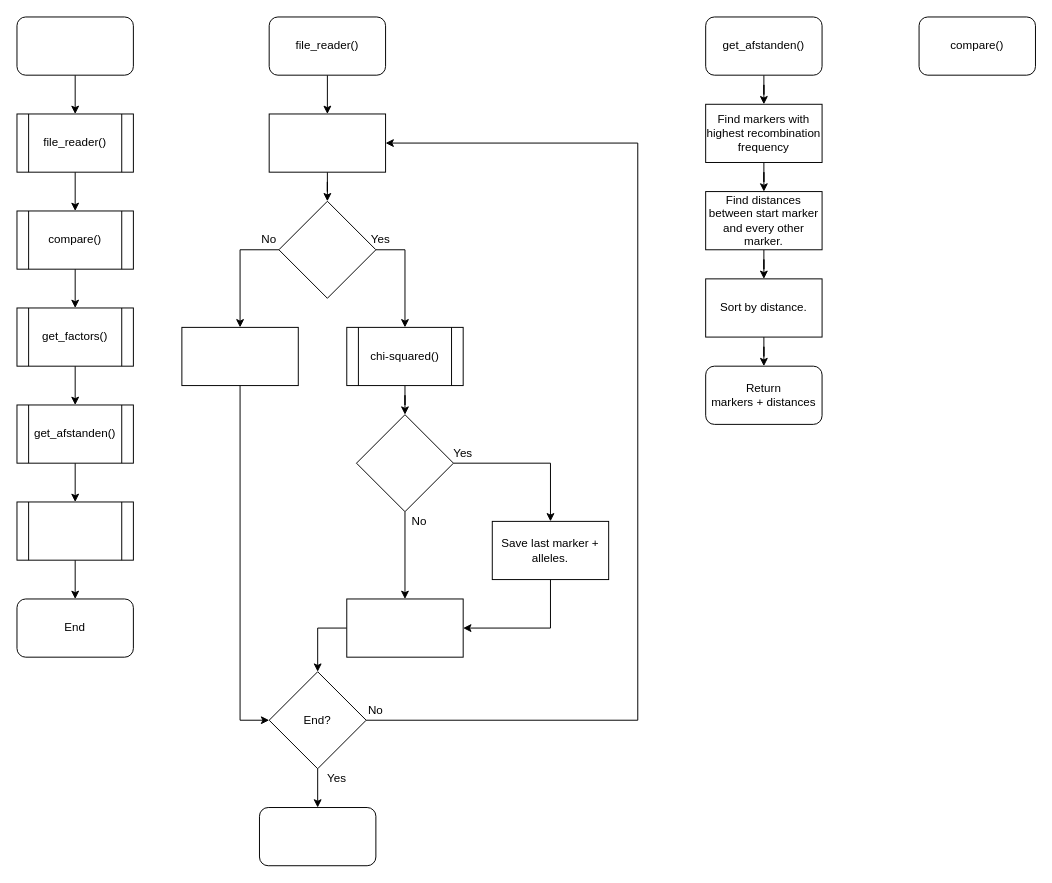
The diagram is 1052 pixels wide and 883 high, and some of its shapes have lost their labels. Here are the shapes that lost their labels. From the top down, the centre of each, then its label:
[74,45]: Start
[327,142]: Read next line
[327,249]: Marker name?
[239,356]: Add alleles to current marker.
[404,463]: Does marker pass chi-squared?
[74,530]: write_file()
[404,627]: Set current marker.
[317,836]: Return markers + alleles
